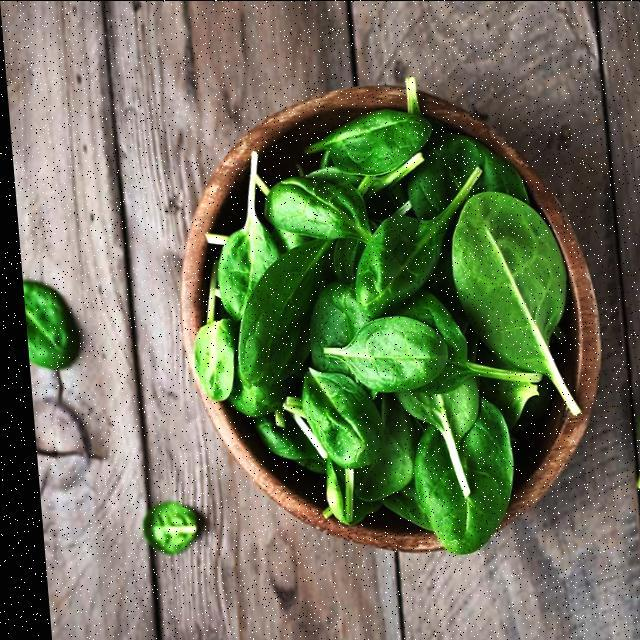Spinach: (161, 75, 592, 571)
